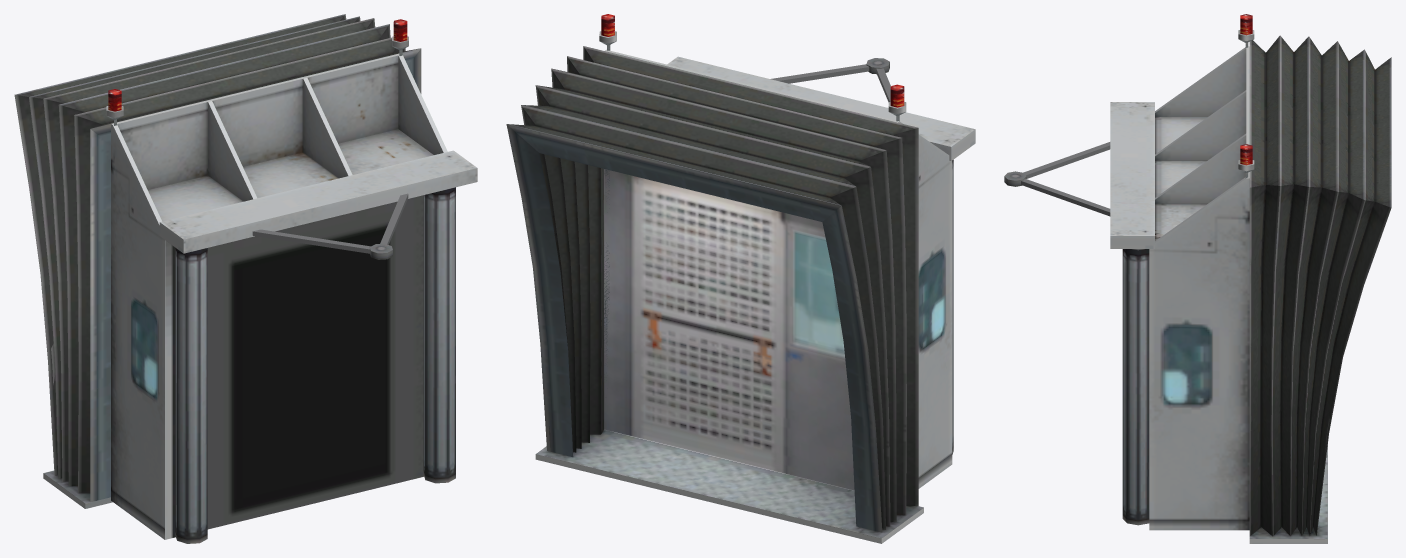
File: jw_cabin_1a.gltf
The picture shows the model from 3 angles, left to right: view 1: azimuth 30°, elevation 25°; view 2: azimuth 150°, elevation 25°; view 3: azimuth 270°, elevation 25°; orthographic projection. The views are drawn at different scales.
Parts seen in each view (by area): view 1: jw_cabin_1a; view 2: jw_cabin_1a; view 3: jw_cabin_1a.
Boxes of the visible parts, x1,y1,x2,y2 form: jw_cabin_1a: (14, 14, 477, 543); jw_cabin_1a: (506, 14, 975, 543); jw_cabin_1a: (1004, 14, 1391, 543).
Bounding box in the file's own units: 3.3 × 3.8 × 3.47.
